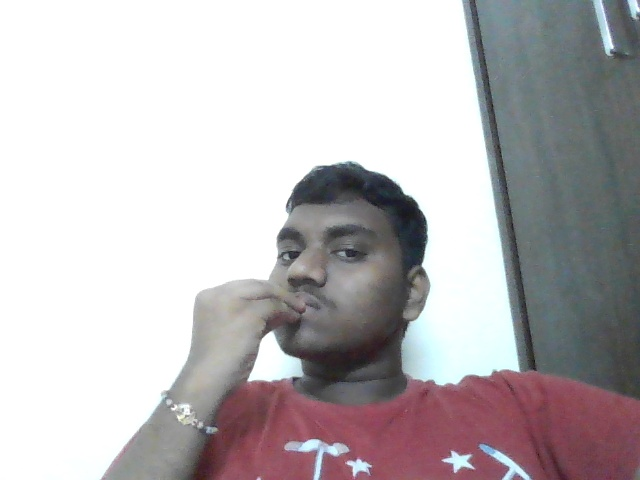Eat: (179, 275, 316, 393)
